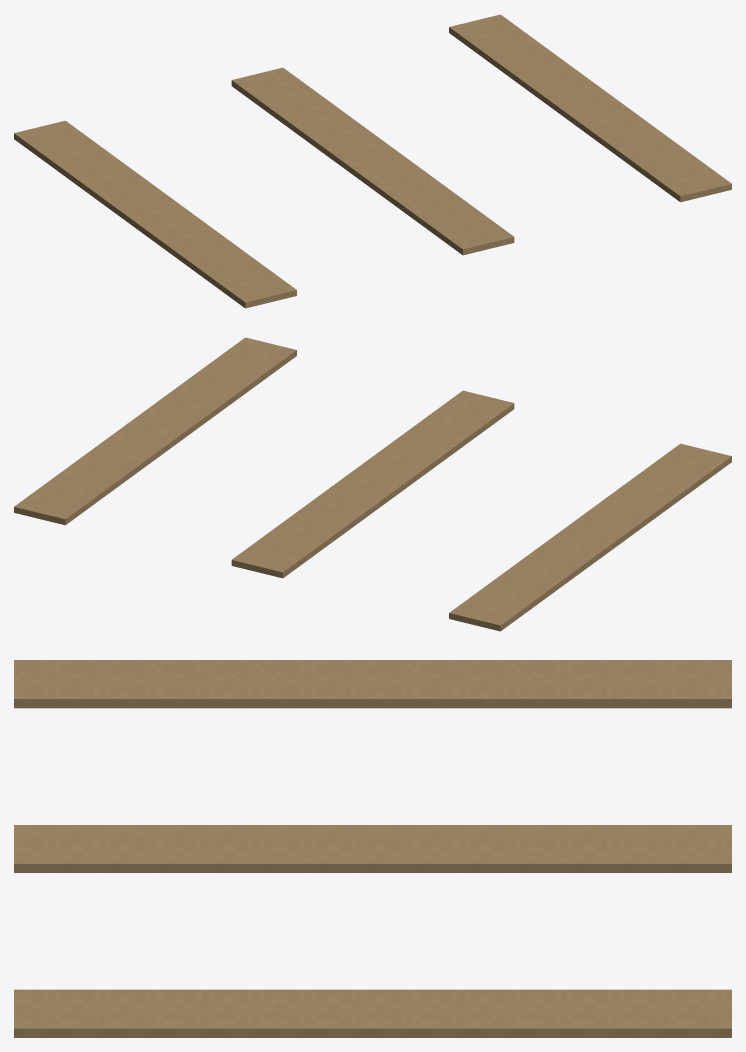
Rendered from kaiyang-ground-LOD1.glb.
3 renders of one model, top to bottom at view 1: azimuth 30°, elevation 25°; view 2: azimuth 150°, elevation 25°; view 3: azimuth 270°, elevation 25°, orthographic. The views are drawn at different scales.
Parts seen in each view (by area): view 1: kaiyang_ground_C; view 2: kaiyang_ground_C; view 3: kaiyang_ground_C.
Part boxes in pixels (left/top/right/bottom): kaiyang_ground_C: left=14, top=14, right=731, bottom=308; kaiyang_ground_C: left=14, top=337, right=731, bottom=631; kaiyang_ground_C: left=14, top=660, right=731, bottom=1037.
Size of the model in its own units: 17 by 0.201 by 14.
Materials: 1 (1 with a texture image).
